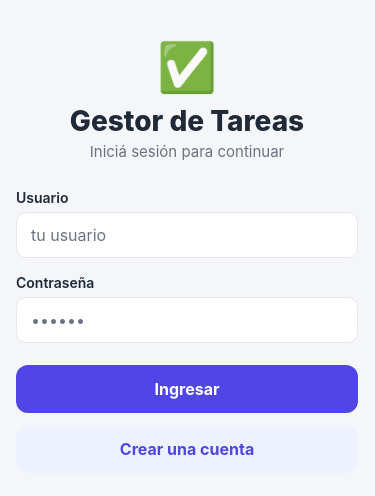
Test: LoginScreen › validaciones › muestra dos errores si ambos campos están vacíos
Click the button with test id "submit-button" at (187, 389), box x1=16 y1=365 x2=358 y2=413
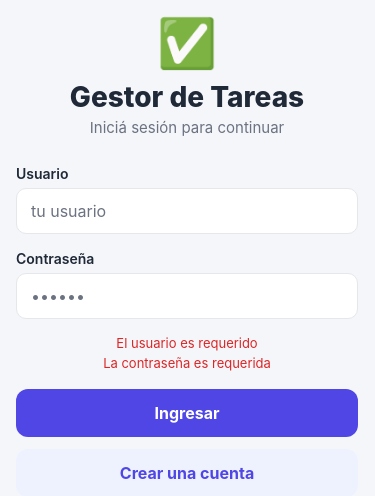
Check: the number of elements with test id "error-message" is 2, box x1=116 y1=335 x2=258 y2=351; x1=103 y1=355 x2=271 y2=371
